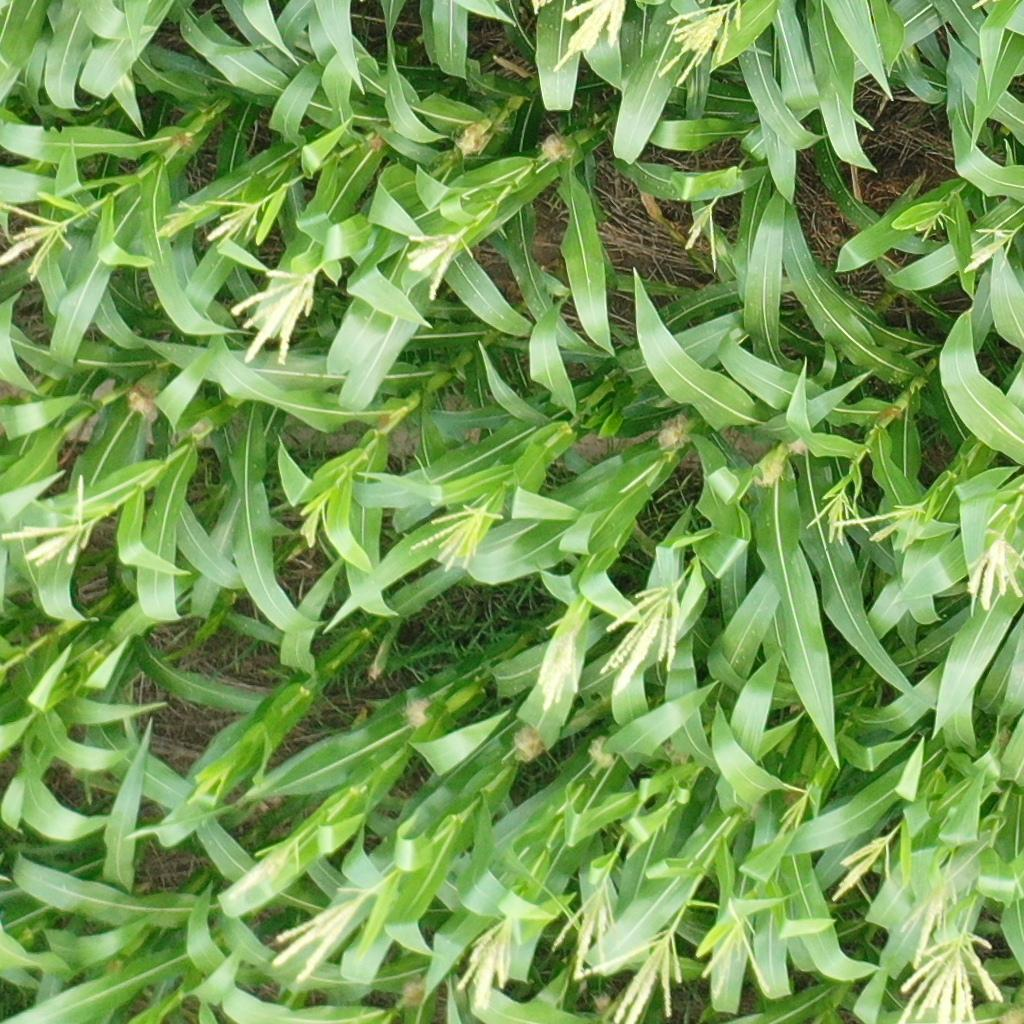Tassel: (580, 924, 687, 1023), (597, 582, 686, 697), (893, 932, 1004, 1024), (269, 888, 371, 986), (228, 267, 319, 368), (1, 472, 92, 571), (658, 1, 752, 90), (405, 498, 506, 573), (540, 877, 612, 979), (698, 906, 773, 1002), (901, 869, 960, 972), (545, 1, 630, 72), (1, 202, 73, 280), (963, 531, 1024, 618), (225, 836, 308, 898), (830, 831, 899, 902), (400, 232, 467, 304), (836, 503, 928, 551), (462, 917, 506, 1011), (537, 624, 580, 713), (808, 486, 872, 545), (684, 200, 725, 275), (206, 198, 262, 250), (960, 224, 1018, 273), (770, 789, 810, 847), (154, 198, 202, 237), (188, 768, 230, 811), (915, 210, 956, 246), (301, 501, 331, 542)
